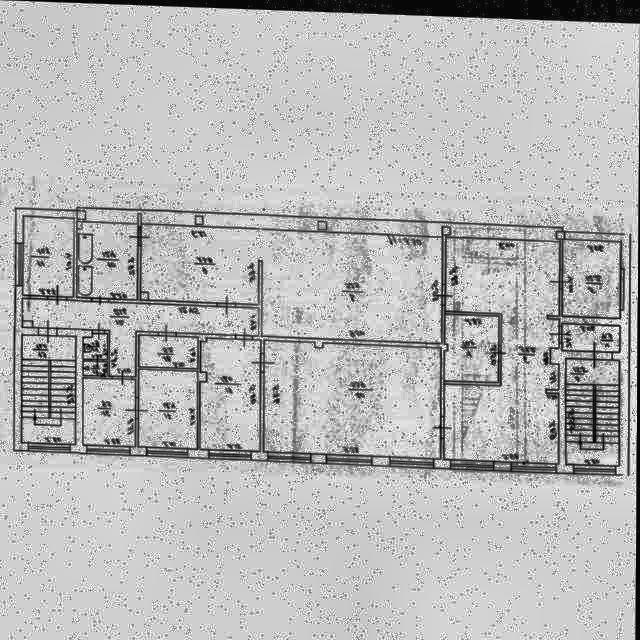room: (138, 224, 446, 341), (445, 235, 560, 460), (261, 339, 445, 456), (21, 299, 260, 380), (201, 337, 261, 449), (22, 336, 76, 444), (567, 355, 619, 461), (139, 369, 198, 448), (78, 222, 138, 299), (563, 236, 622, 314), (24, 217, 75, 296), (445, 311, 499, 379), (84, 378, 136, 446), (139, 335, 199, 368), (562, 320, 621, 348), (84, 333, 108, 359), (83, 361, 108, 376)
